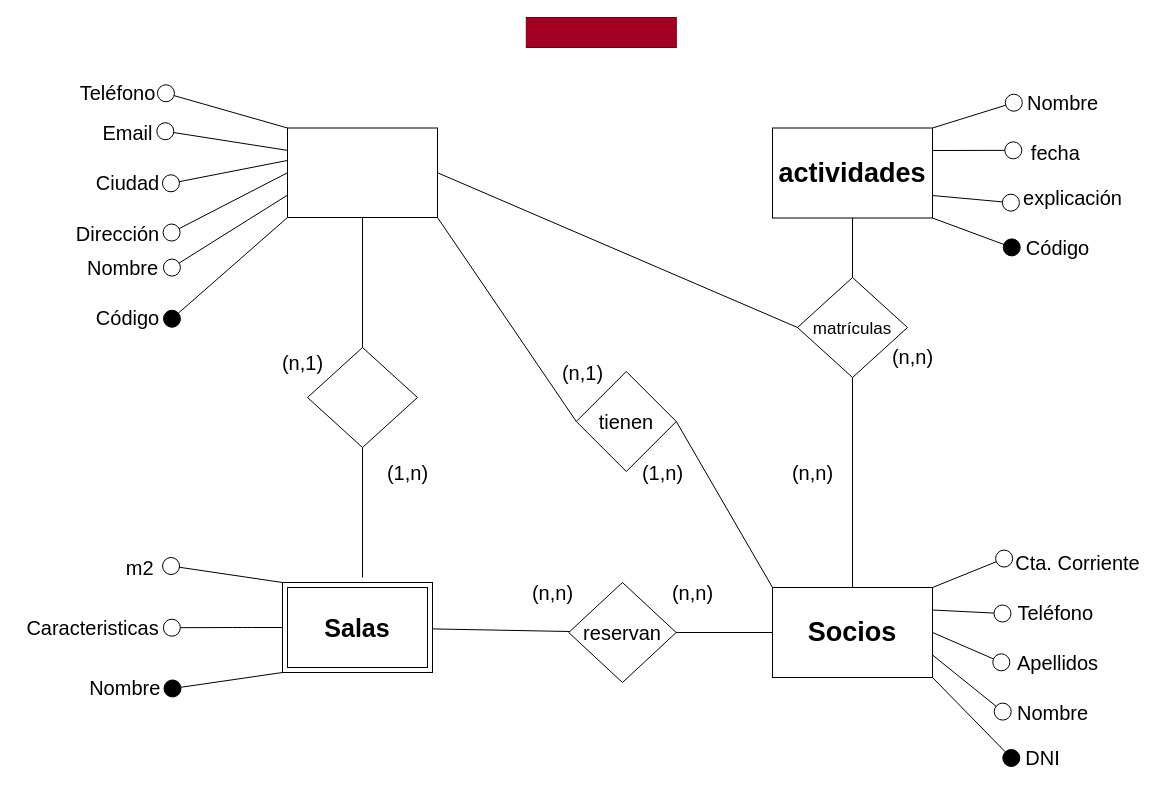
The diagram is 1164 pixels wide and 795 high, and some of its shapes have lost their labels. The centre of each missing label's shape, as x and y in pixels:
Centro: point (362, 172)
Centro de ocio: point (600, 32)
pertenecen: point (362, 397)
